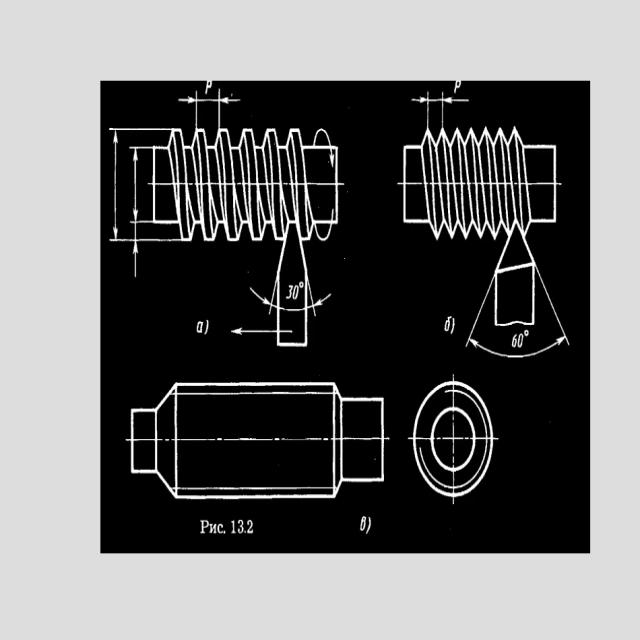marking_line: (465, 241, 575, 358), (248, 246, 331, 319), (109, 126, 149, 242), (407, 90, 469, 123), (179, 94, 242, 123), (130, 144, 151, 224), (412, 88, 433, 125), (439, 94, 465, 122), (231, 325, 277, 336), (131, 242, 138, 278)
numeric: (441, 315, 456, 335), (236, 514, 244, 535), (229, 518, 238, 535), (286, 283, 294, 301), (245, 519, 254, 533), (360, 514, 366, 531), (292, 285, 298, 299), (517, 334, 523, 348), (512, 334, 517, 348), (523, 329, 530, 336)
special_symbol: (299, 281, 304, 287)
